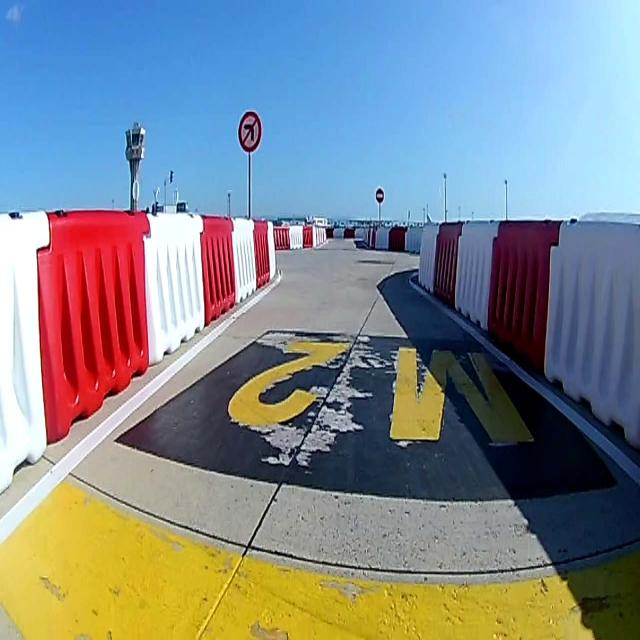soladonulmez: (238, 112, 262, 153)
